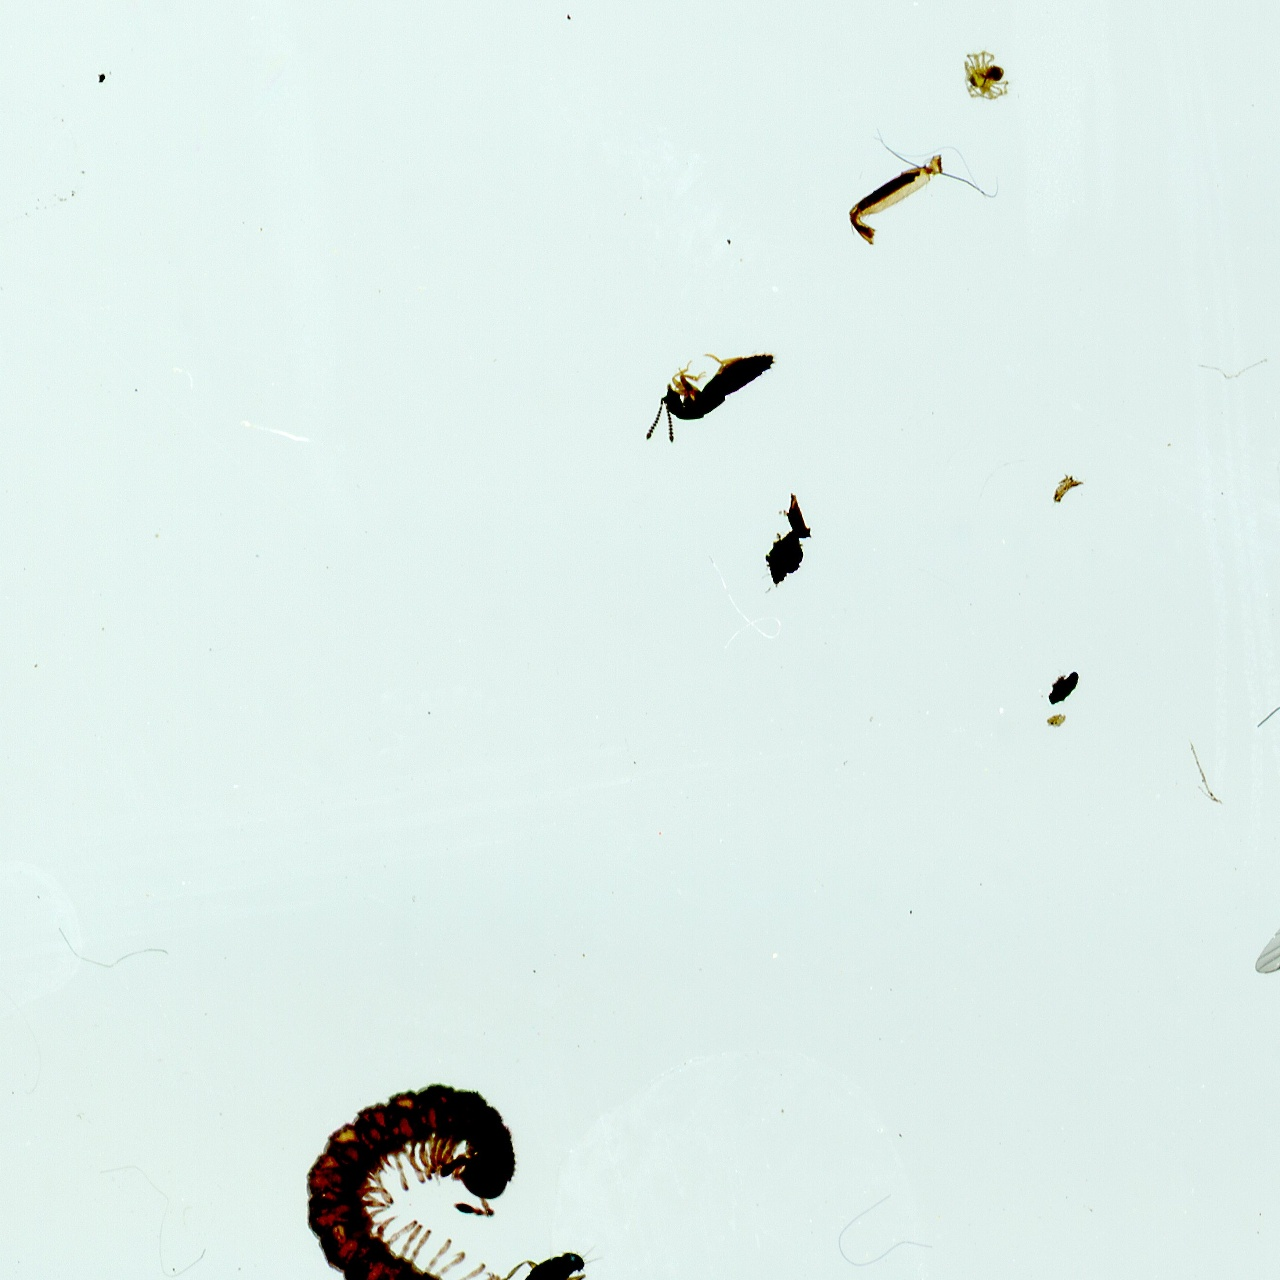arthropod: (294, 1075, 542, 1280), (619, 314, 795, 459), (1212, 734, 1280, 1074), (479, 1235, 613, 1280), (956, 47, 1015, 104)
